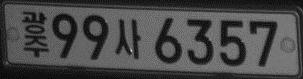3: (186, 18, 214, 64)
5: (219, 19, 246, 66)
6: (154, 17, 182, 63)
7: (249, 19, 278, 67)
9: (51, 12, 78, 59), (82, 14, 109, 59)
광주_V: (21, 10, 49, 58)
사: (115, 18, 141, 58)
